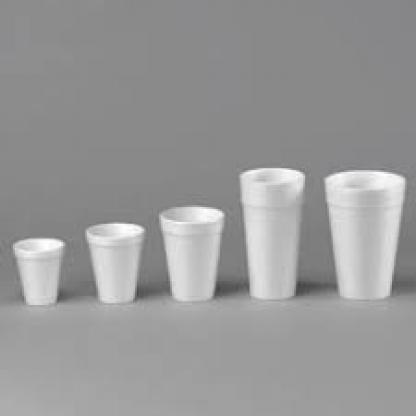trash: (325, 170, 404, 298), (240, 168, 304, 299), (159, 206, 223, 300), (86, 223, 144, 303), (13, 238, 63, 304)
